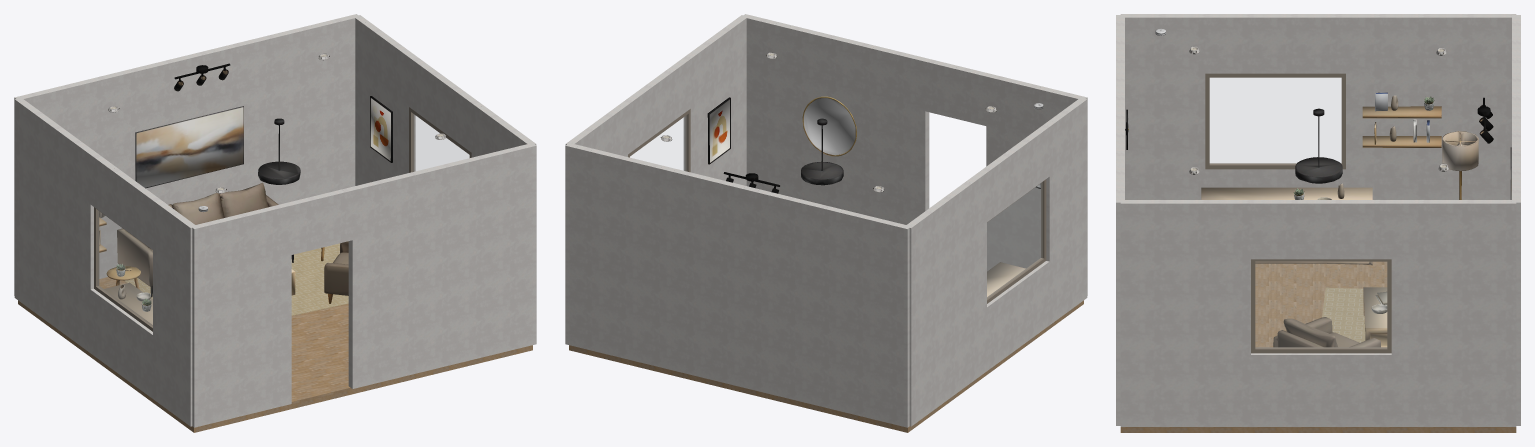
Rendered from scene_named.glb.
3 renders of one model, left to right at view 1: azimuth 30°, elevation 25°; view 2: azimuth 150°, elevation 25°; view 3: azimuth 270°, elevation 25°, orthographic. The views are drawn at different scales.
Visible parts, largest first — view 1: south_wall_exterior_living_room/south_wall_exterior_living_r, north_wall_living_room/north_wall_living_room/geometry_0, west_wall_exterior_living_room/west_wall_exterior_living_roo, east_wall_living_room/east_wall_living_room/geometry_0, floor_living_room, painting_0, window_2_living_room/window_2_living_room/glass, sofa_0, rug_0, window_1_living_room/window_1_living_room/glass, south_wall_living_room/south_wall_living_room/geometry_0, print_0 (+8 smaller); view 2: north_wall_exterior_living_room/north_wall_exterior_living_r, south_wall_living_room/south_wall_living_room/geometry_0, west_wall_exterior_living_room/west_wall_exterior_living_roo, east_wall_living_room/east_wall_living_room/geometry_0, window_2_living_room/window_2_living_room/glass, floor_living_room, mirror_0, window_1_living_room/window_1_living_room/glass, south_wall_exterior_living_room/south_wall_exterior_living_r, print_1, pendant_light_0, window_2_living_room/window_2_living_room/frame (+5 smaller); view 3: east_wall_exterior_living_room/east_wall_exterior_living_roo, west_wall_living_room/west_wall_living_room/geometry_0, window_1_living_room/window_1_living_room/glass, window_2_living_room/window_2_living_room/glass, floor_living_room, console_cabinet_0, window_1_living_room/window_1_living_room/frame, window_2_living_room/window_2_living_room/frame, north_wall_exterior_living_room/north_wall_exterior_living_r, south_wall_exterior_living_room/south_wall_exterior_living_r, armchair_0, rug_0 (+10 smaller).
Part boxes in pixels (left/top/right/bottom): south_wall_exterior_living_room/south_wall_exterior_living_r: left=192, top=144, right=536, bottom=427; north_wall_living_room/north_wall_living_room/geometry_0: left=17, top=15, right=359, bottom=278; west_wall_exterior_living_room/west_wall_exterior_living_roo: left=14, top=99, right=192, bottom=426; east_wall_living_room/east_wall_living_room/geometry_0: left=355, top=17, right=530, bottom=185; floor_living_room: left=18, top=277, right=532, bottom=432; painting_0: left=135, top=106, right=243, bottom=188; window_2_living_room/window_2_living_room/glass: left=98, top=211, right=152, bottom=325; sofa_0: left=117, top=182, right=293, bottom=297; rug_0: left=124, top=243, right=348, bottom=315; window_1_living_room/window_1_living_room/glass: left=413, top=114, right=469, bottom=171; south_wall_living_room/south_wall_living_room/geometry_0: left=191, top=143, right=533, bottom=387; print_0: left=370, top=96, right=392, bottom=162; north_wall_exterior_living_room/north_wall_exterior_living_r: left=565, top=144, right=909, bottom=427; south_wall_living_room/south_wall_living_room/geometry_0: left=742, top=15, right=1084, bottom=271; west_wall_exterior_living_room/west_wall_exterior_living_roo: left=909, top=99, right=1087, bottom=426; east_wall_living_room/east_wall_living_room/geometry_0: left=571, top=17, right=746, bottom=185; window_2_living_room/window_2_living_room/glass: left=987, top=183, right=1042, bottom=297; floor_living_room: left=569, top=300, right=1083, bottom=432; mirror_0: left=802, top=96, right=856, bottom=156; window_1_living_room/window_1_living_room/glass: left=630, top=116, right=686, bottom=170; south_wall_exterior_living_room/south_wall_exterior_living_r: left=743, top=14, right=1087, bottom=295; print_1: left=707, top=97, right=730, bottom=164; pendant_light_0: left=801, top=118, right=843, bottom=185; window_2_living_room/window_2_living_room/frame: left=987, top=179, right=1046, bottom=303; east_wall_exterior_living_room/east_wall_exterior_living_roo: left=1120, top=201, right=1516, bottom=426; west_wall_living_room/west_wall_living_room/geometry_0: left=1125, top=16, right=1511, bottom=199; window_1_living_room/window_1_living_room/glass: left=1255, top=262, right=1386, bottom=347; window_2_living_room/window_2_living_room/glass: left=1210, top=78, right=1341, bottom=163; floor_living_room: left=1120, top=261, right=1516, bottom=432; console_cabinet_0: left=1201, top=187, right=1372, bottom=265; window_1_living_room/window_1_living_room/frame: left=1251, top=259, right=1391, bottom=353; window_2_living_room/window_2_living_room/frame: left=1205, top=73, right=1345, bottom=169; north_wall_exterior_living_room/north_wall_exterior_living_r: left=1516, top=15, right=1520, bottom=425; south_wall_exterior_living_room/south_wall_exterior_living_r: left=1116, top=15, right=1120, bottom=425; armchair_0: left=1273, top=317, right=1380, bottom=347; rug_0: left=1322, top=287, right=1365, bottom=342.
Bounding box in the file's own units: 5.1 × 2.9 × 4.6.
Materials: 32 (30 with a texture image).
